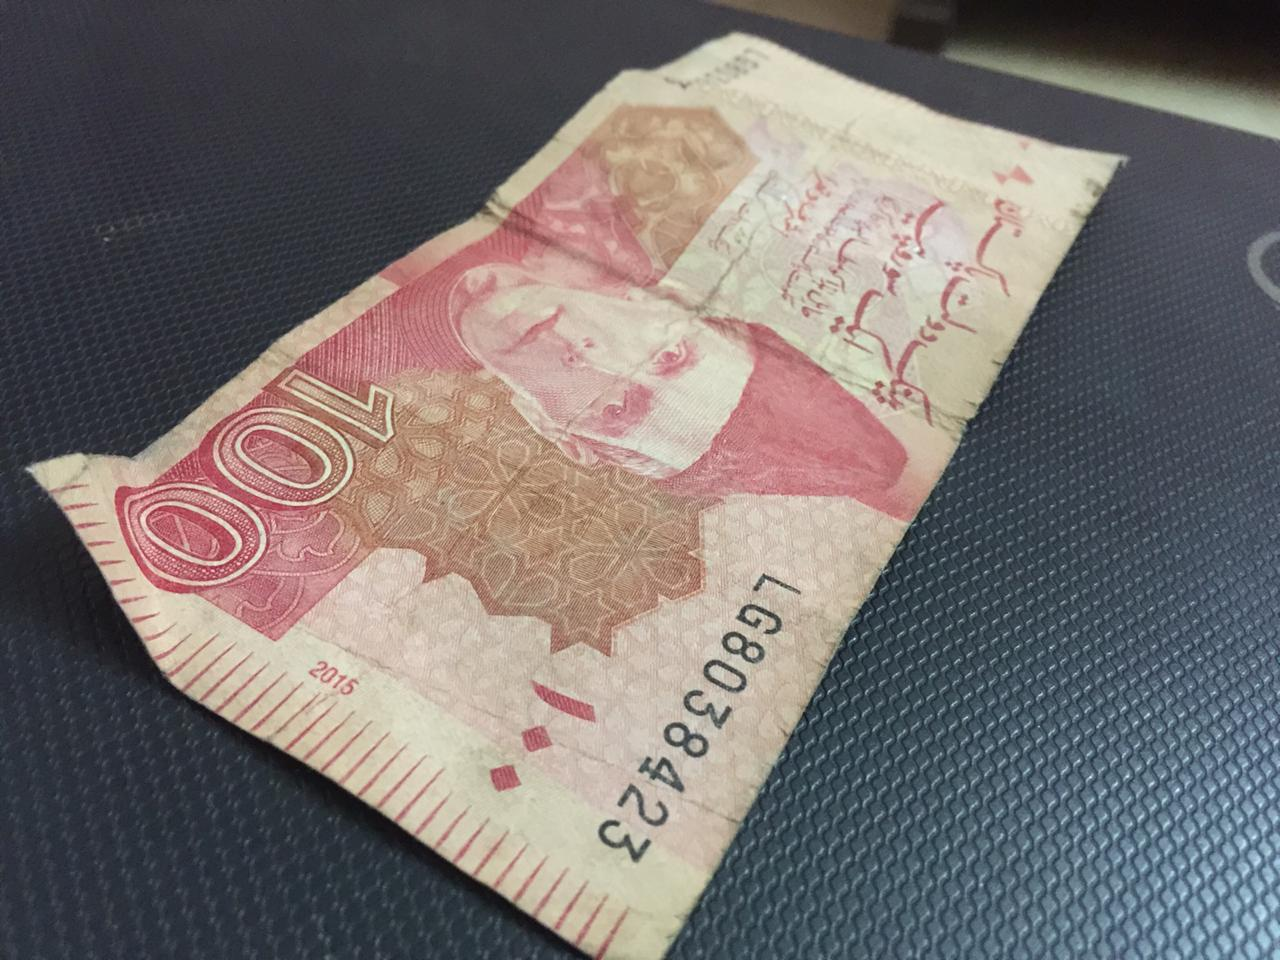100 rupee: (33, 31, 1132, 960)
